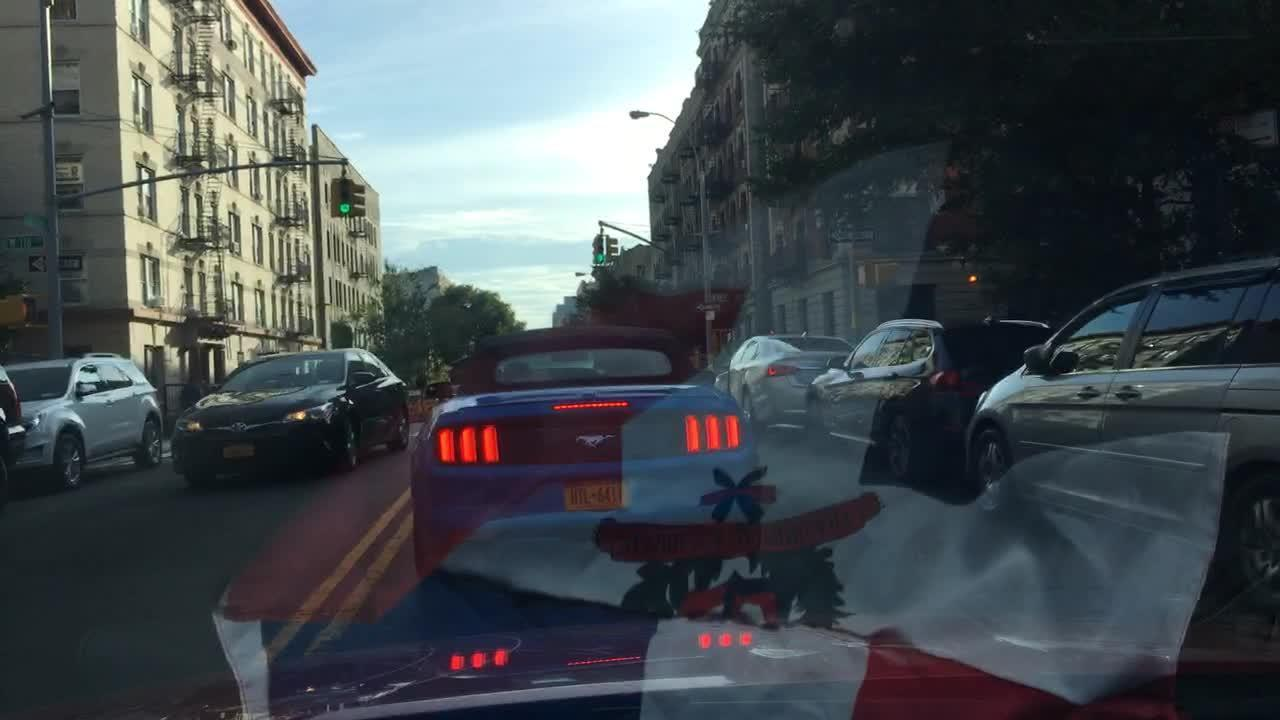Toyota: (227, 420, 254, 436)
no class: (575, 428, 620, 455)
